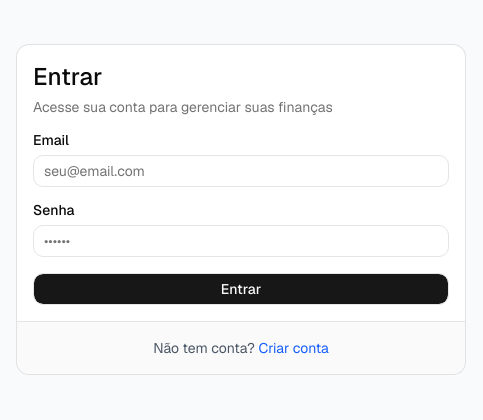
Scenario: LoginPage › exibe erros de validação quando campos estão vazios
Click the button "Entrar": (241, 288) [33, 272, 449, 304]
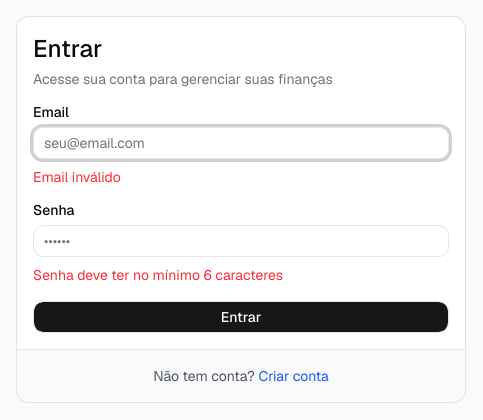
Expected: the text "Email inválido" is shown, [33, 168, 121, 186]
